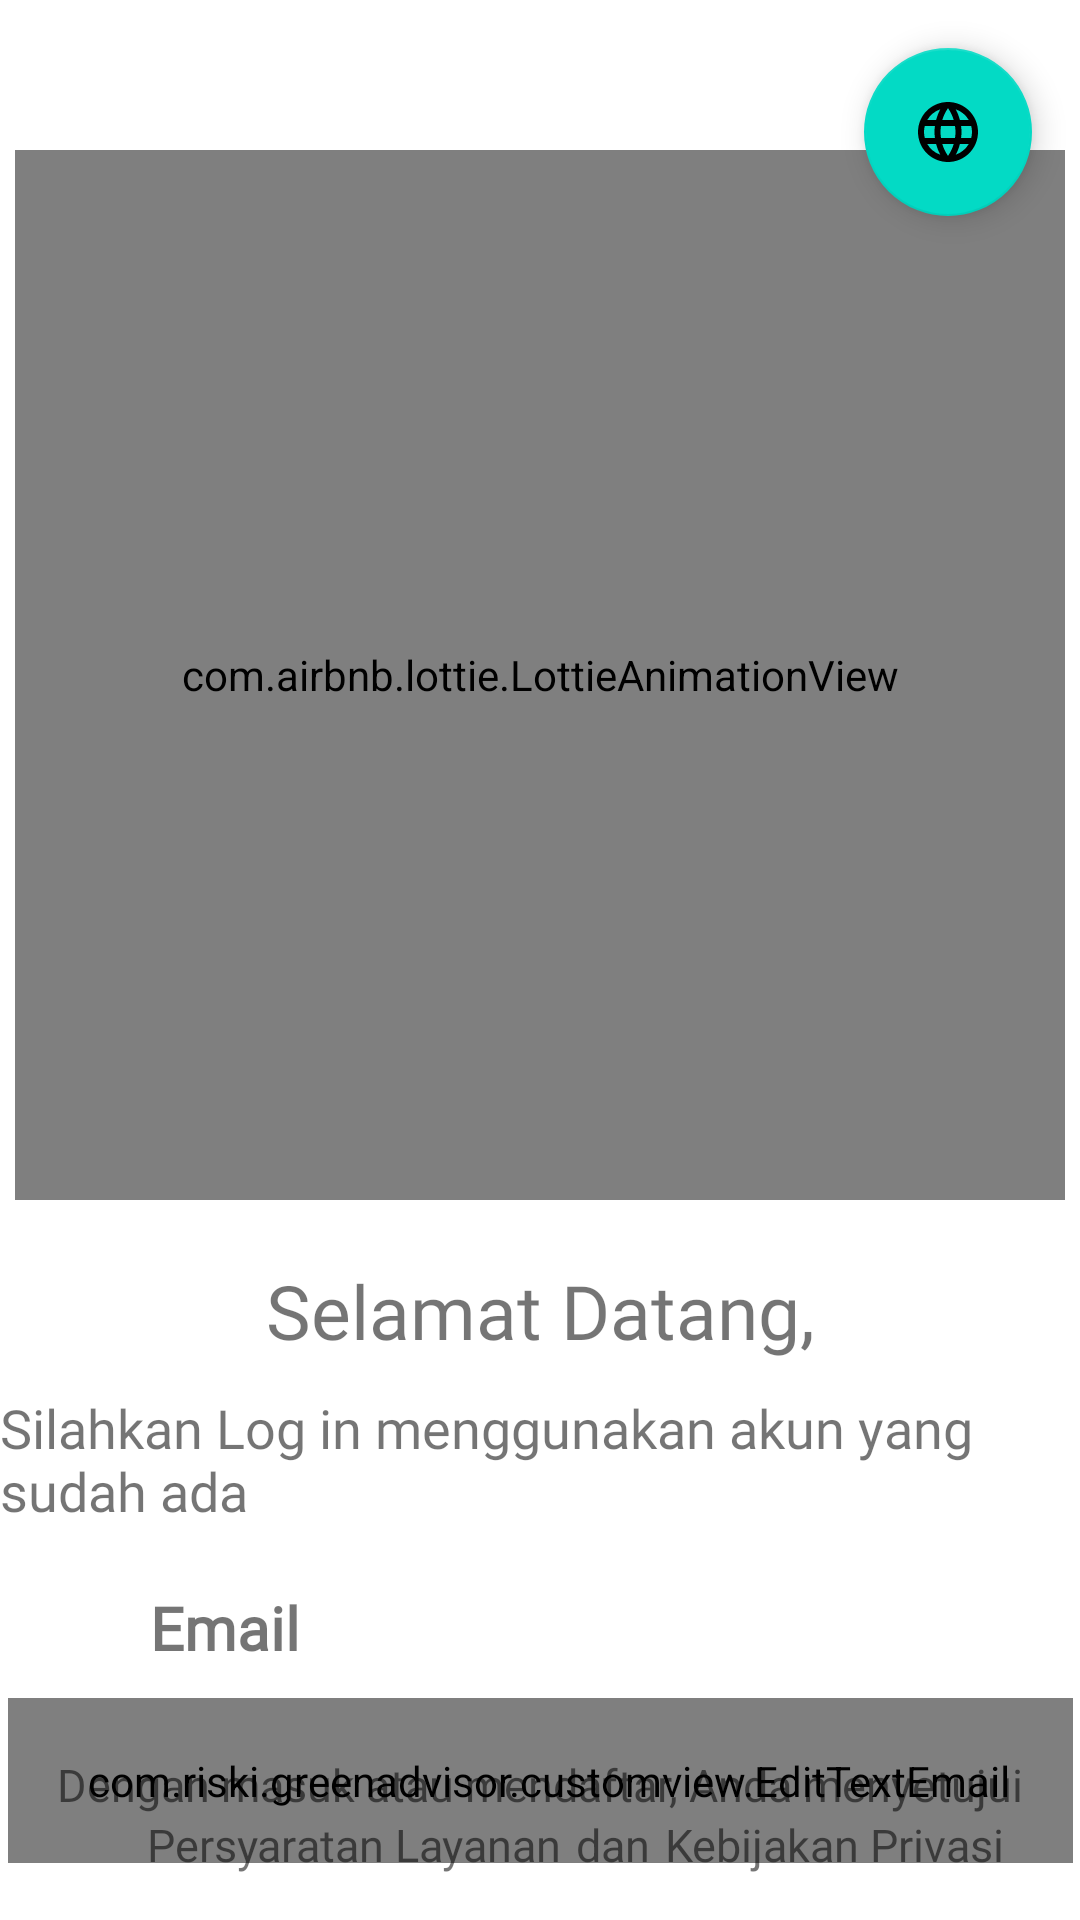

Screen size 1080x1920. Icon name, then its center in pixels as (x,y):
language: (948,132)
